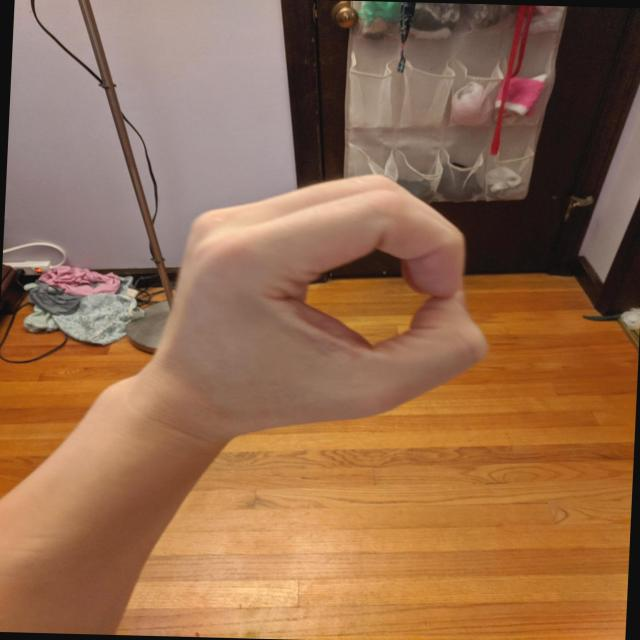O: (141, 164, 502, 443)
